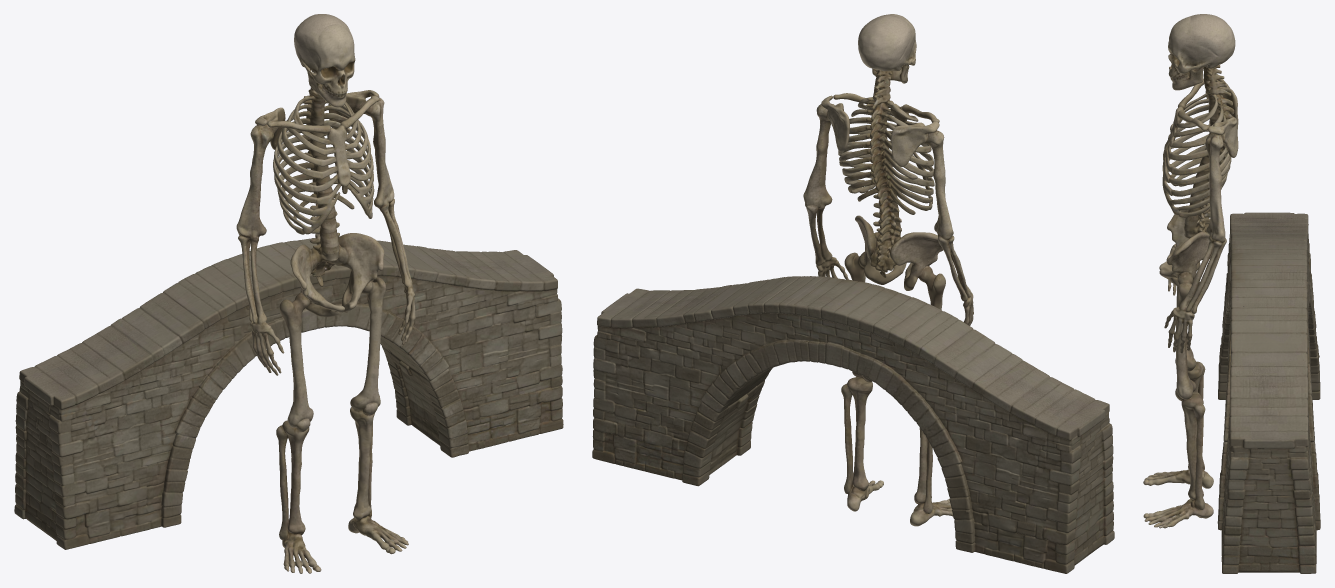
File: 37-el-esqueleto-blanco-y-la-figura-luminosa-optimized.glb
The picture shows the model from 3 angles, left to right: view 1: azimuth 30°, elevation 25°; view 2: azimuth 150°, elevation 25°; view 3: azimuth 270°, elevation 25°; orthographic projection. The views are drawn at different scales.
Visible parts, largest first — view 1: tripo_node_802b1ec5-e9df-4012-8731-68c5f192f279; view 2: tripo_node_802b1ec5-e9df-4012-8731-68c5f192f279; view 3: tripo_node_802b1ec5-e9df-4012-8731-68c5f192f279.
Part boxes in pixels (x1,y1,x2,y2): tripo_node_802b1ec5-e9df-4012-8731-68c5f192f279: (14,14,563,573); tripo_node_802b1ec5-e9df-4012-8731-68c5f192f279: (592,14,1114,573); tripo_node_802b1ec5-e9df-4012-8731-68c5f192f279: (1143,14,1320,573).
Size of the model in its own units: 1 by 0.995 by 0.328.
1 material, 1 textured.
